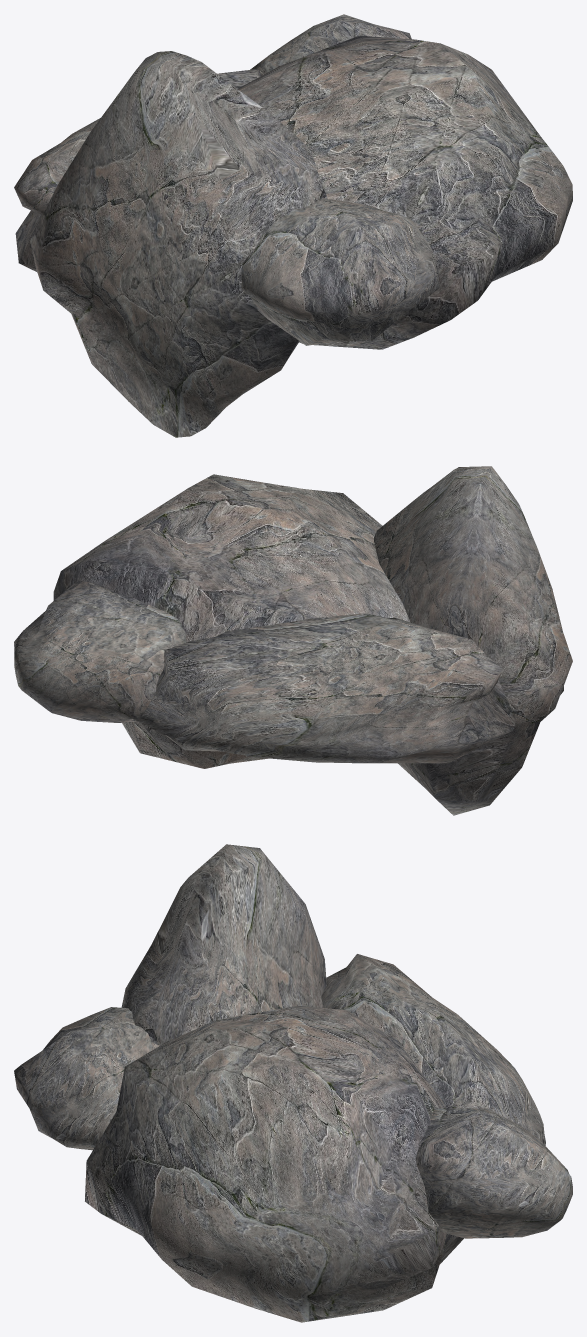
File: rock015.FBX
3 renders of one model, top to bottom at view 1: azimuth 30°, elevation 25°; view 2: azimuth 150°, elevation 25°; view 3: azimuth 270°, elevation 25°, orthographic. The views are drawn at different scales.
Visible parts, largest first — view 1: rock015; view 2: rock015; view 3: rock015.
Part boxes in pixels (box(x1,y1,x2,y2)): rock015: box(14, 14, 572, 437); rock015: box(14, 466, 572, 815); rock015: box(14, 844, 572, 1322).
Bounding box in the file's own units: 3849 × 2686 × 3619.
1 material, 1 textured.
